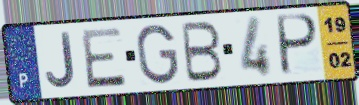4: (238, 13, 273, 81)
B: (180, 20, 225, 84)
E: (79, 25, 129, 91)
G: (134, 22, 181, 86)
J: (44, 31, 78, 91)
P: (277, 12, 321, 78)
